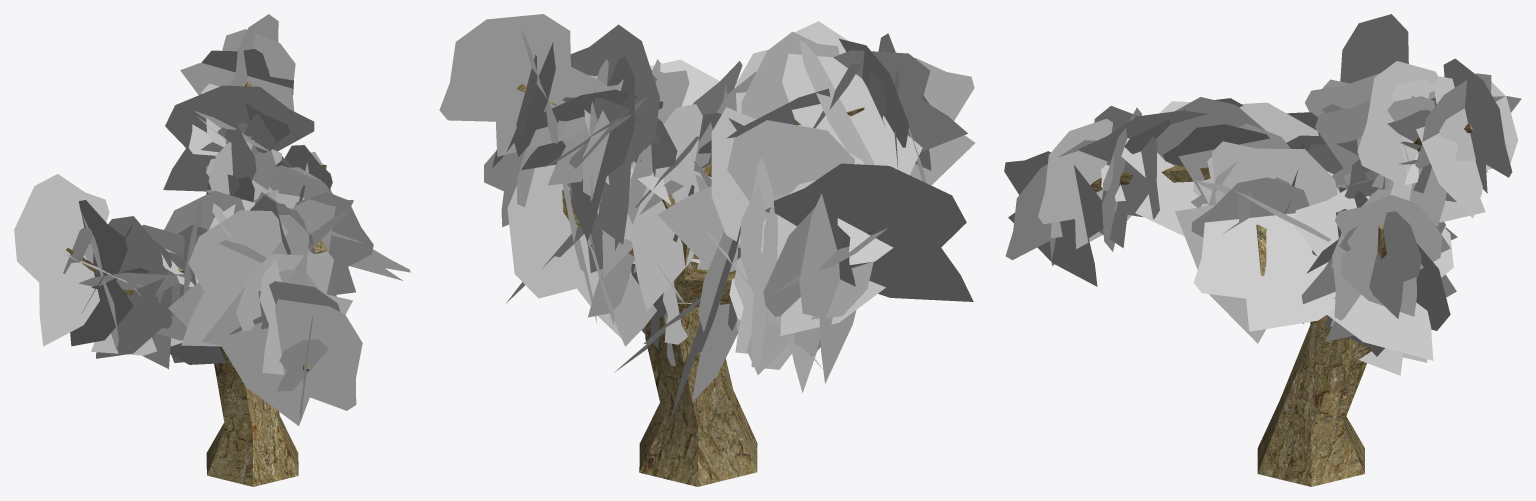
File: Tree3.fbx
3 renders of one model, left to right at view 1: azimuth 30°, elevation 25°; view 2: azimuth 150°, elevation 25°; view 3: azimuth 270°, elevation 25°, orthographic. The views are drawn at different scales.
Visible parts, largest first — view 1: Tree.000|Branch|Dupli|17, Tree.000|Branch|Dupli|99, Tree.000, Tree.000|Branch|Dupli|56, Tree.000|Branch|Dupli|23, Tree.000|Branch|Dupli|97, Tree.000|Branch|Dupli|90, Tree.000|Branch|Dupli|29, Tree.000|Branch|Dupli|55, Tree.000|Branch|Dupli|14, Tree.000|Branch|Dupli|63, Tree.000|Branch|Dupli|44 (+24 smaller); view 2: Tree.000|Branch|Dupli|99, Tree.000, Tree.000|Branch|Dupli|40, Tree.000|Branch|Dupli|46, Tree.000|Branch|Dupli|71, Tree.000|Branch|Dupli|2, Tree.000|Branch|Dupli|55, Tree.000|Branch|Dupli|23, Tree.000|Branch|Dupli|90, Tree.000|Branch|Dupli|9, Tree.000|Branch|Dupli|31, Tree.000|Branch|Dupli|35 (+34 smaller); view 3: Tree.000, Tree.000|Branch|Dupli|65, Tree.000|Branch|Dupli|58, Tree.000|Branch|Dupli|68, Tree.000|Branch|Dupli|77, Tree.000|Branch|Dupli|13, Tree.000|Branch|Dupli|23, Tree.000|Branch|Dupli|16, Tree.000|Branch|Dupli|41, Tree.000|Branch|Dupli|40, Tree.000|Branch|Dupli|99, Tree.000|Branch|Dupli|66 (+26 smaller).
Boxes of the visible parts, box(x1,y1,x2,y2) form: Tree.000|Branch|Dupli|17: box(216, 299, 362, 425); Tree.000|Branch|Dupli|99: box(14, 174, 109, 346); Tree.000: box(66, 81, 327, 486); Tree.000|Branch|Dupli|56: box(181, 210, 313, 346); Tree.000|Branch|Dupli|23: box(163, 85, 314, 191); Tree.000|Branch|Dupli|97: box(96, 216, 171, 358); Tree.000|Branch|Dupli|90: box(70, 200, 133, 346); Tree.000|Branch|Dupli|29: box(180, 29, 295, 111); Tree.000|Branch|Dupli|55: box(168, 215, 309, 352); Tree.000|Branch|Dupli|14: box(236, 252, 352, 331); Tree.000|Branch|Dupli|63: box(294, 192, 373, 294); Tree.000|Branch|Dupli|44: box(156, 190, 244, 340); Tree.000|Branch|Dupli|99: box(773, 163, 973, 301); Tree.000: box(516, 84, 874, 486); Tree.000|Branch|Dupli|40: box(439, 14, 612, 156); Tree.000|Branch|Dupli|46: box(657, 120, 854, 271); Tree.000|Branch|Dupli|71: box(507, 164, 635, 338); Tree.000|Branch|Dupli|2: box(597, 104, 711, 310); Tree.000|Branch|Dupli|55: box(782, 21, 922, 175); Tree.000|Branch|Dupli|23: box(567, 24, 659, 244); Tree.000|Branch|Dupli|90: box(799, 193, 856, 383); Tree.000|Branch|Dupli|9: box(833, 50, 967, 151); Tree.000|Branch|Dupli|31: box(583, 69, 689, 277); Tree.000|Branch|Dupli|35: box(570, 56, 634, 241); Tree.000: box(1090, 124, 1473, 486); Tree.000|Branch|Dupli|65: box(1193, 213, 1335, 331); Tree.000|Branch|Dupli|58: box(1175, 141, 1337, 343); Tree.000|Branch|Dupli|68: box(1293, 189, 1453, 360); Tree.000|Branch|Dupli|77: box(1330, 195, 1442, 316); Tree.000|Branch|Dupli|13: box(1038, 118, 1131, 248); Tree.000|Branch|Dupli|23: box(1357, 61, 1482, 221); Tree.000|Branch|Dupli|16: box(1004, 151, 1103, 286); Tree.000|Branch|Dupli|41: box(1416, 76, 1517, 217); Tree.000|Branch|Dupli|40: box(1431, 58, 1512, 193); Tree.000|Branch|Dupli|99: box(1340, 14, 1408, 83); Tree.000|Branch|Dupli|66: box(1369, 211, 1421, 318).
Size of the model in its own units: 468 by 486 by 524.
